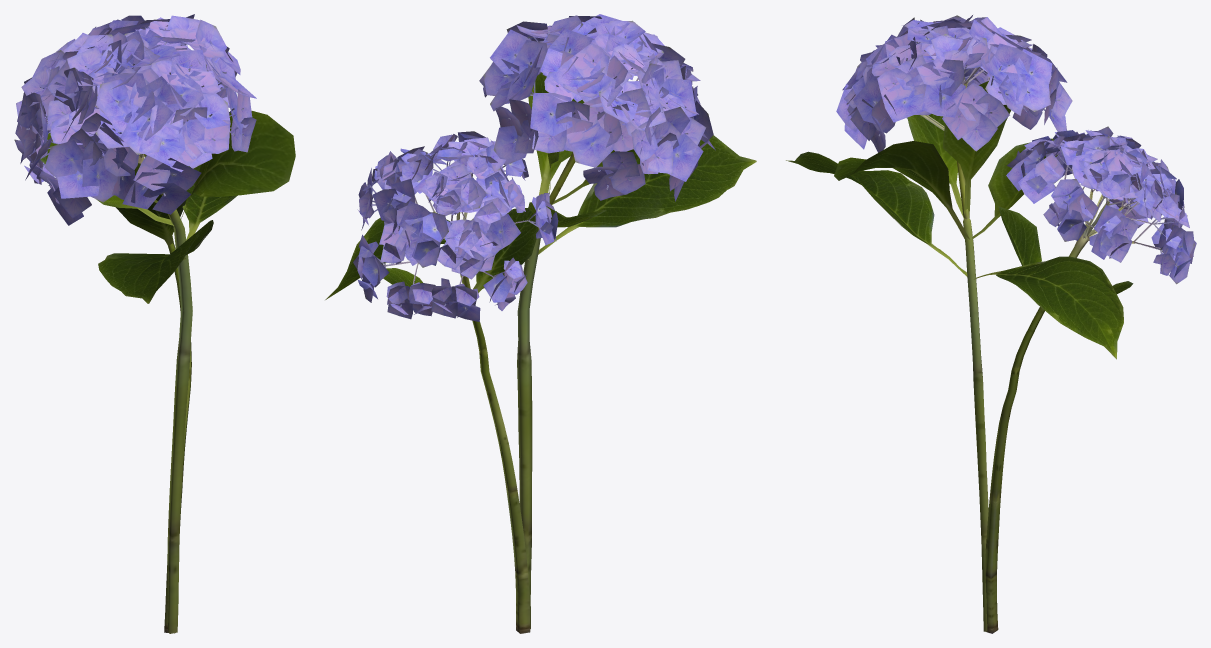
The model's file is Hydrangea_bush_short_purple.glb.
The picture shows the model from 3 angles, left to right: view 1: azimuth 30°, elevation 25°; view 2: azimuth 150°, elevation 25°; view 3: azimuth 270°, elevation 25°; orthographic projection. The views are drawn at different scales.
Visible parts, largest first — view 1: BUSHEKK; view 2: BUSHEKK; view 3: BUSHEKK.
Part boxes in pixels (bbox=[...]): BUSHEKK: bbox=[14, 14, 295, 633]; BUSHEKK: bbox=[325, 14, 756, 633]; BUSHEKK: bbox=[786, 15, 1196, 633].
Bounding box in the file's own units: 1.48 × 2.94 × 1.87.
Materials: 1 (1 with a texture image).
